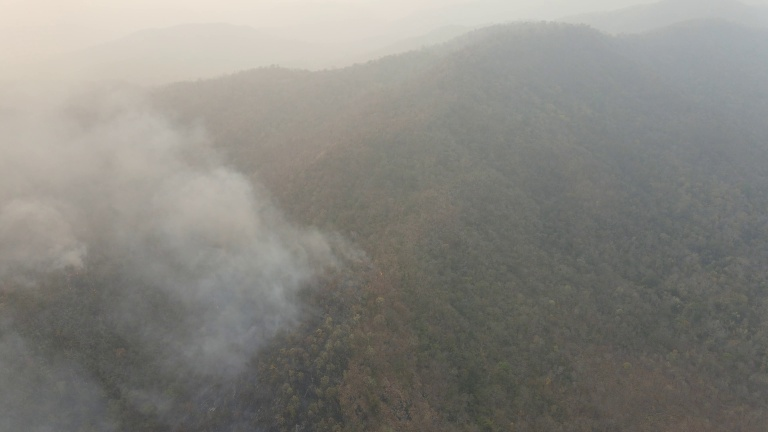smoke: (1, 67, 353, 427)
